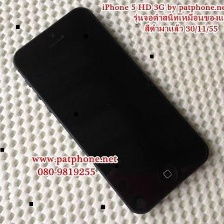phone: (7, 3, 212, 220)
